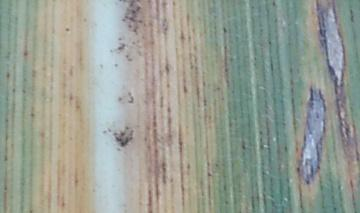tarspot: (112, 130, 136, 148), (239, 133, 248, 152), (347, 7, 355, 24), (125, 90, 134, 105), (164, 60, 170, 77), (115, 41, 125, 51), (124, 52, 133, 63), (158, 94, 164, 109), (184, 160, 193, 170), (181, 84, 189, 95), (63, 25, 72, 33), (115, 94, 123, 103), (96, 61, 104, 70), (122, 124, 131, 132), (27, 111, 37, 118), (205, 171, 213, 179), (294, 166, 302, 174), (221, 25, 228, 34), (21, 50, 29, 57), (81, 16, 88, 24), (266, 38, 273, 46), (135, 6, 142, 14), (9, 86, 17, 93), (282, 143, 288, 152), (112, 61, 119, 68), (223, 198, 230, 205), (4, 70, 10, 78), (270, 1, 276, 8)
